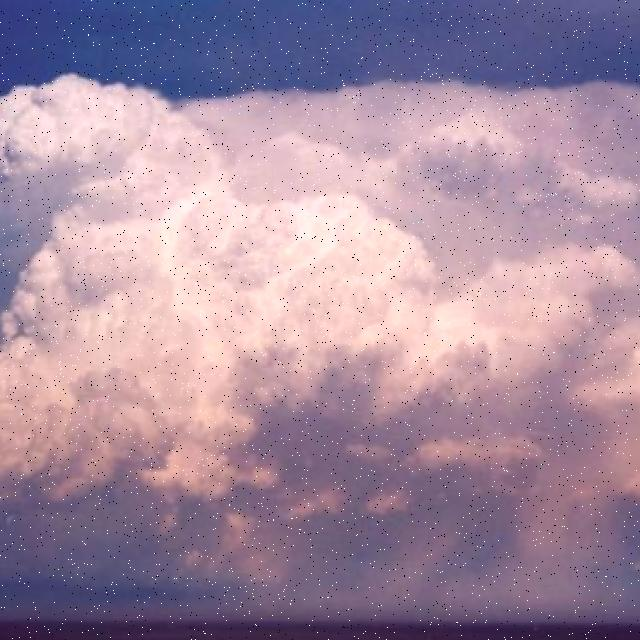Cb: (1, 44, 640, 590)
